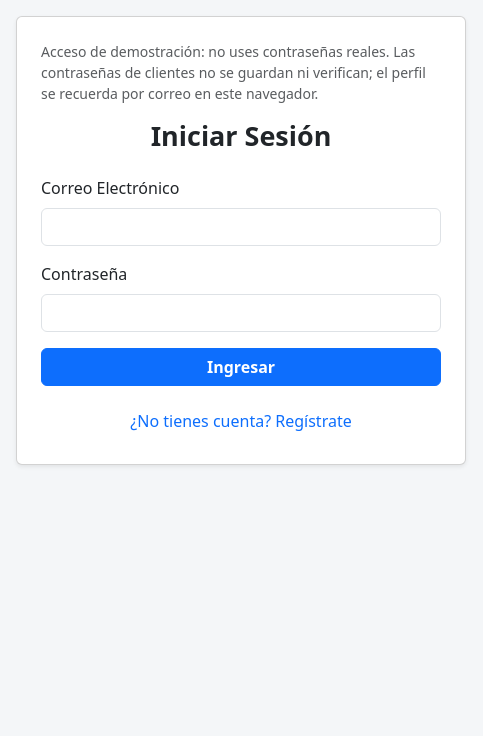
Test case: registro rechaza correo existente o reservado: camila@example.com
Click the button "¿No tienes cuenta? Regístrate".
click(241, 421)  # box [117,402,365,440]
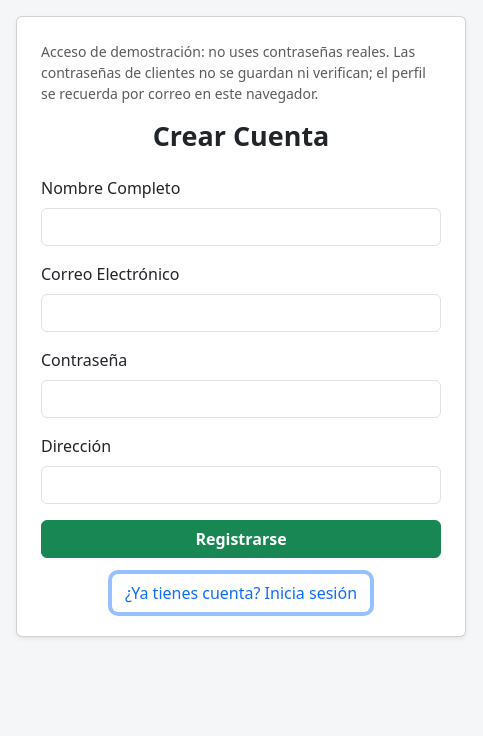
Type "Otro nombre" into the field labelled "Nombre Completo".
click(241, 227); type("Otro nombre")  # box [41,208,441,246]
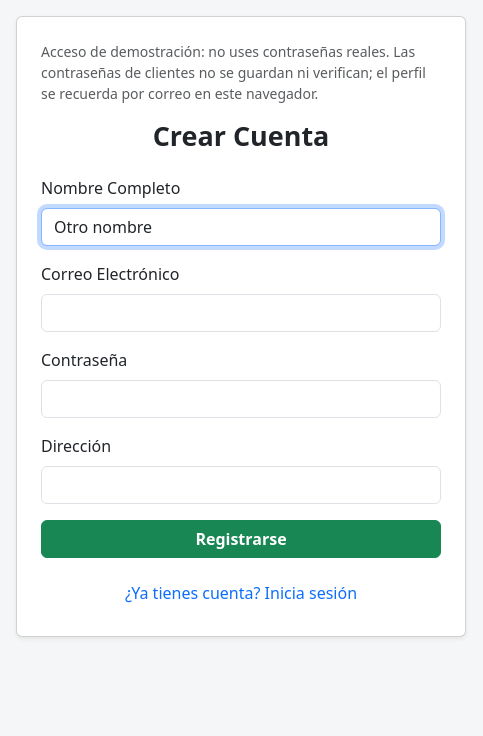
Type "camila@example.com" into the field labelled "Correo Electrónico".
click(241, 313); type("camila@example.com")  # box [41,294,441,332]
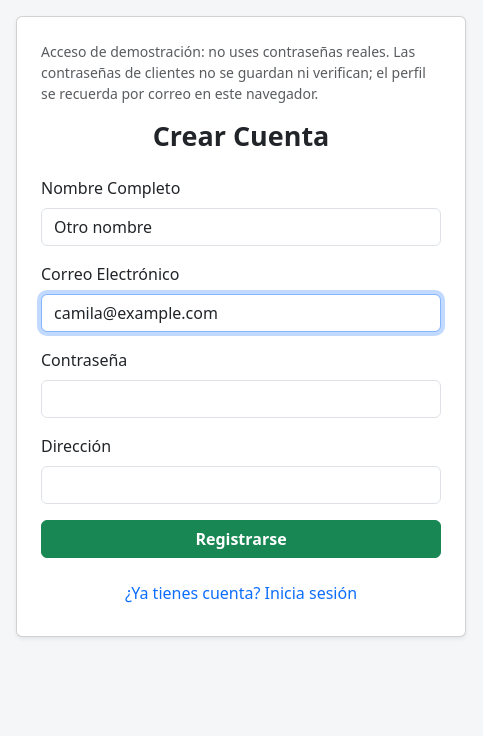
Type "demo" into the password field labelled "Contraseña".
click(241, 399); type("demo")  # box [41,380,441,418]
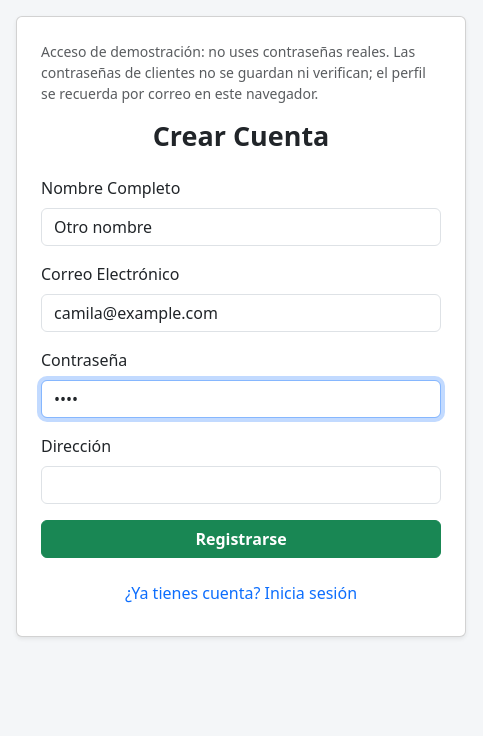
Type "Otra calle" into the field labelled "Dirección".
click(241, 485); type("Otra calle")  # box [41,466,441,504]
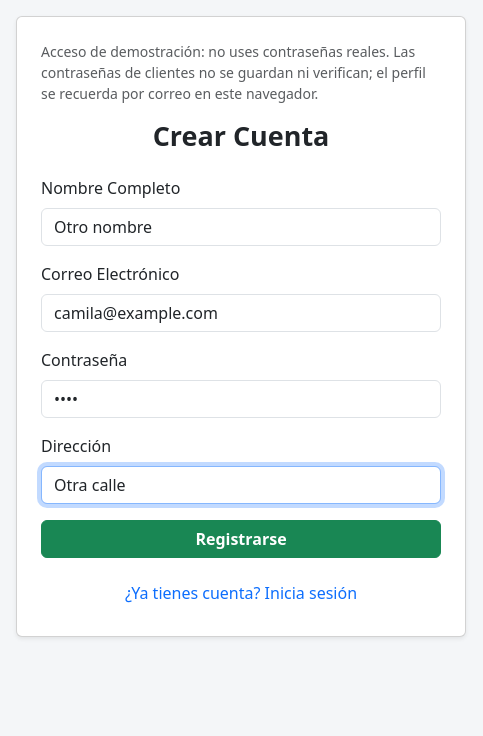
Click the button "Registrarse".
click(241, 539)  # box [41,520,441,558]
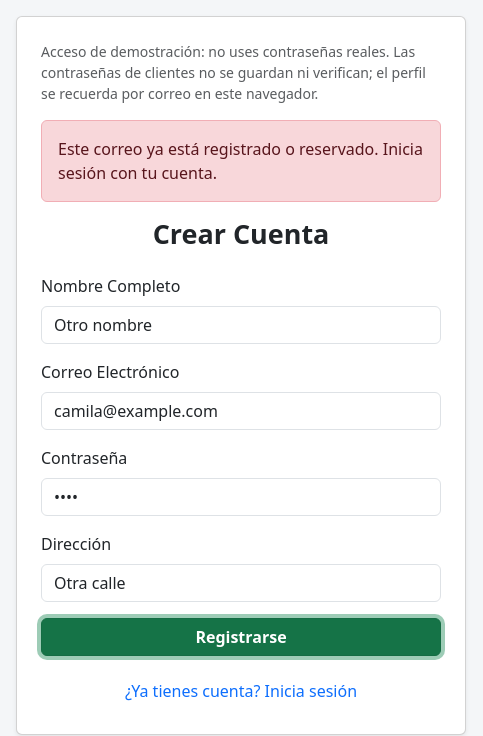
Now the message shows "registrado o reservado", box [58,138,423,184]
